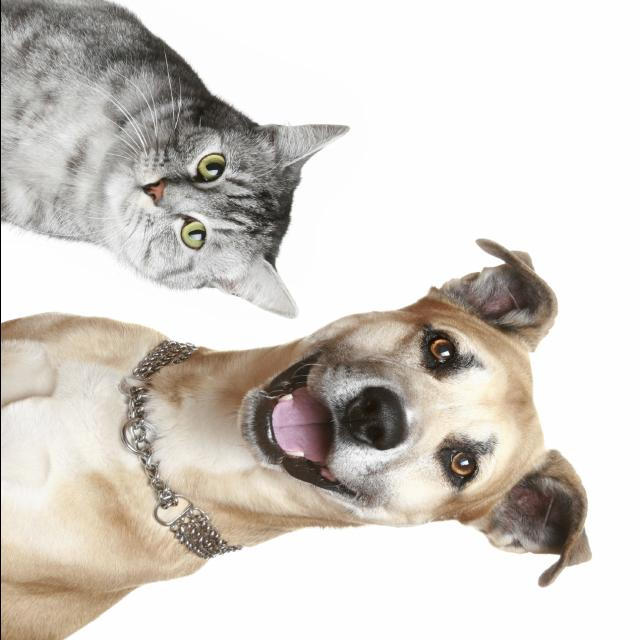cat: (0, 0, 350, 317)
dog: (0, 236, 593, 640)
